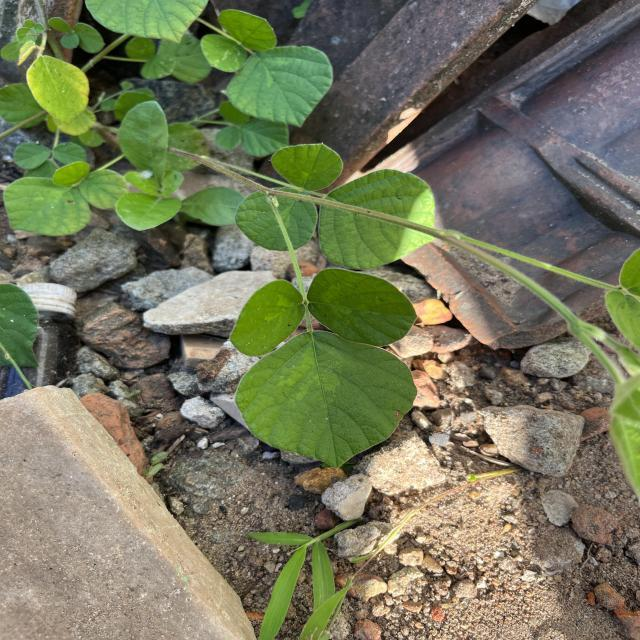Pseudarthria viscida: (228, 267, 420, 470), (234, 141, 436, 271)
